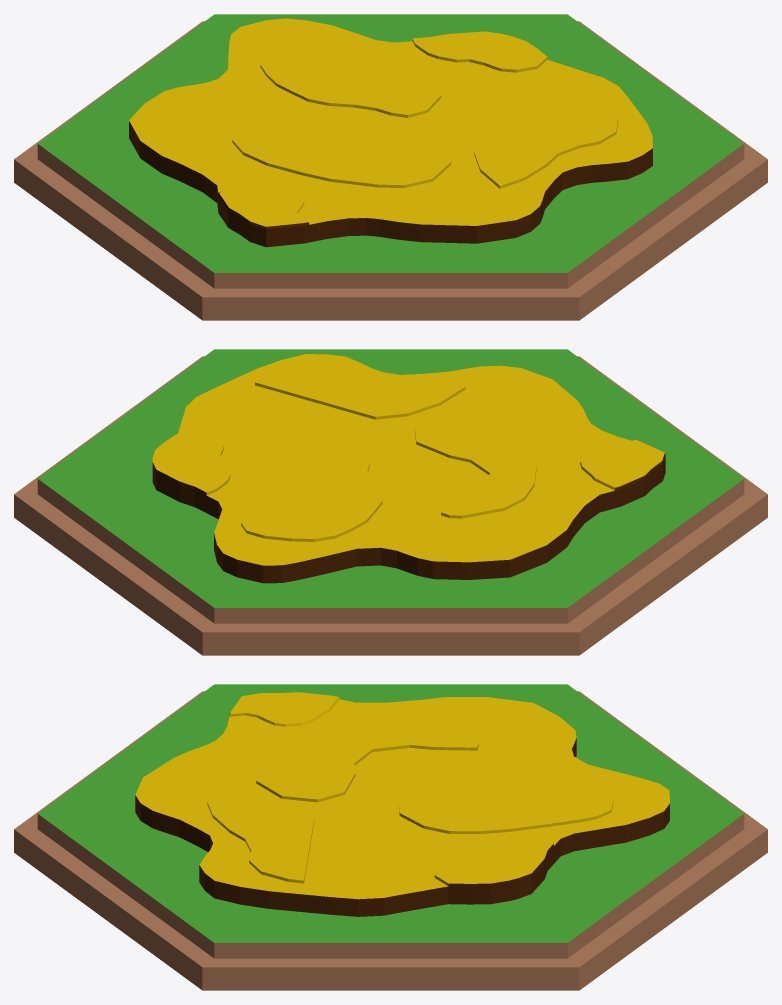
File: HexGetreide.glb
The picture shows the model from 3 angles, top to bottom: view 1: azimuth 30°, elevation 25°; view 2: azimuth 150°, elevation 25°; view 3: azimuth 270°, elevation 25°; orthographic projection.
Parts seen in each view (by area): view 1: Cylinder; view 2: Cylinder; view 3: Cylinder.
Boxes of the visible parts, x1,y1,x2,y2 form: Cylinder: (14,14,767,320); Cylinder: (14,349,767,655); Cylinder: (14,684,767,990).
Bounding box in the file's own units: 6.93 × 0.697 × 8.
